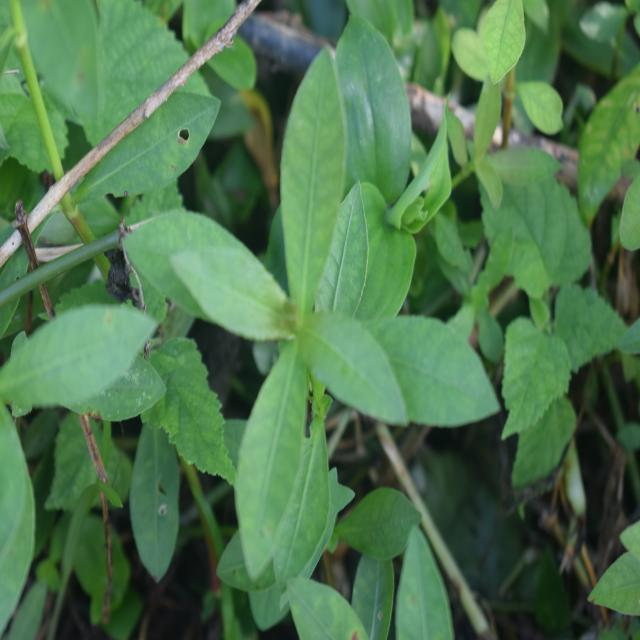Alligatorweed: (195, 84, 452, 526)
